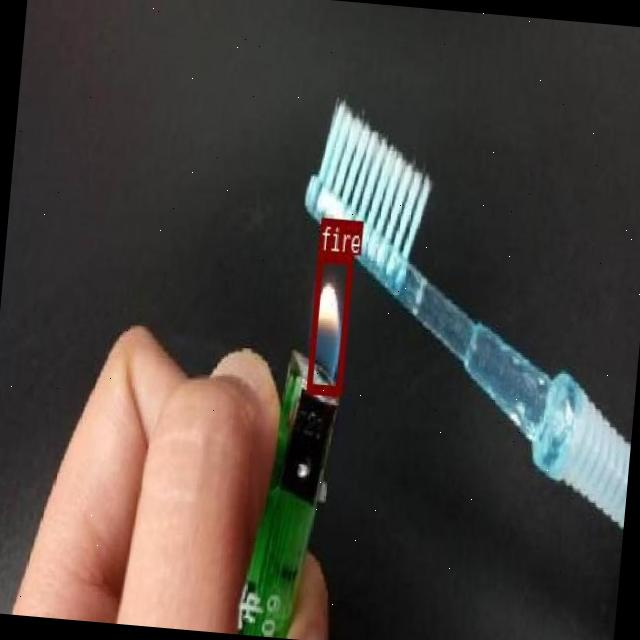fire: (306, 252, 352, 394)
